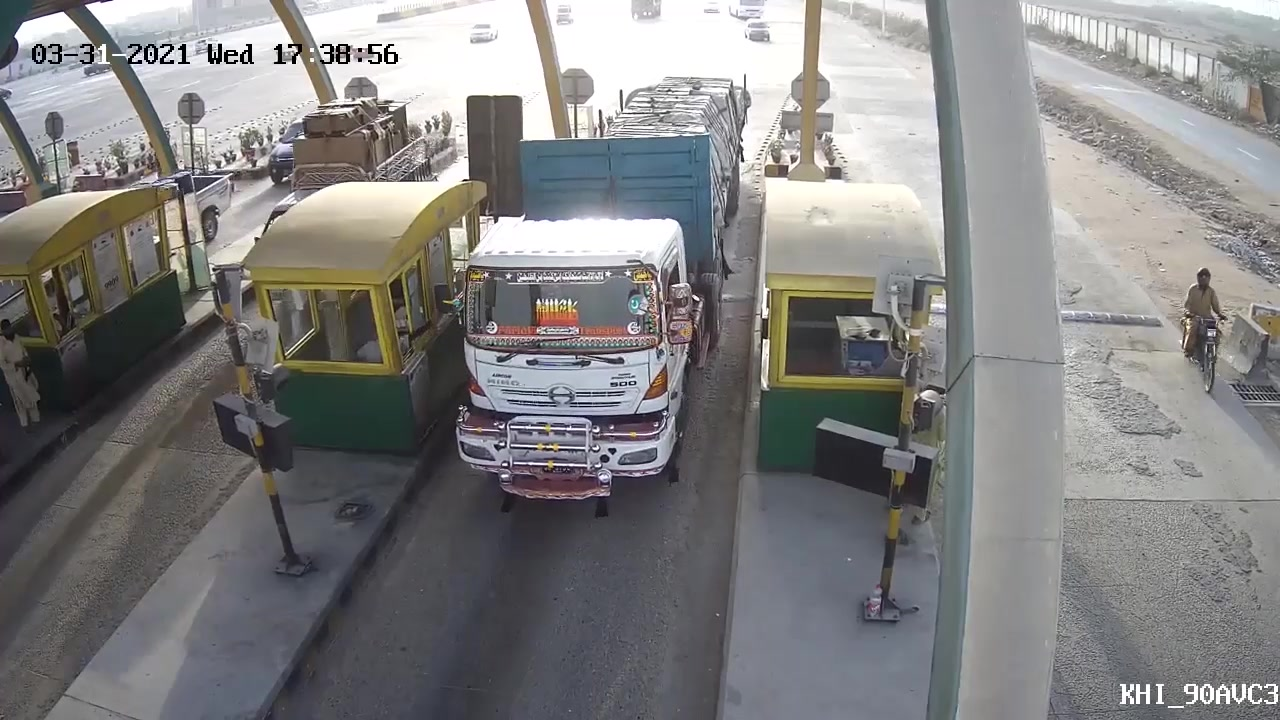F6: (444, 74, 751, 512)
